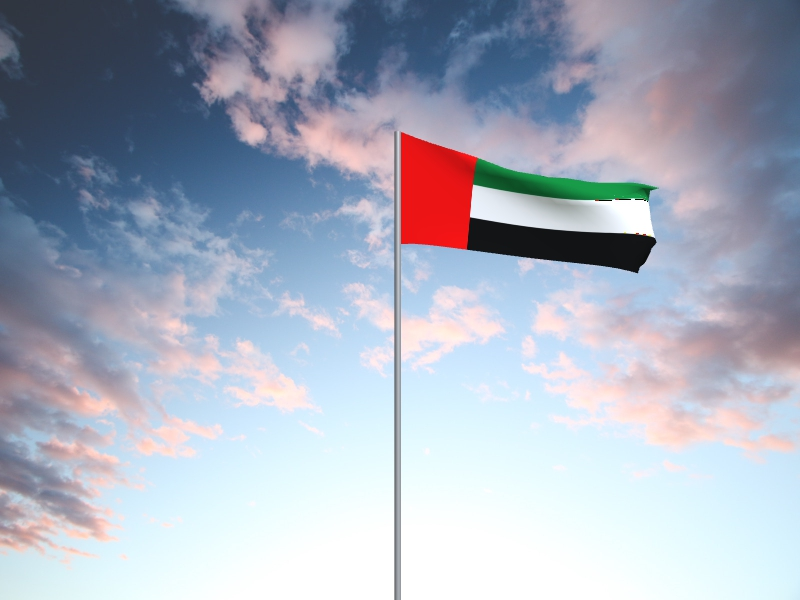ae: (402, 133, 661, 276)
